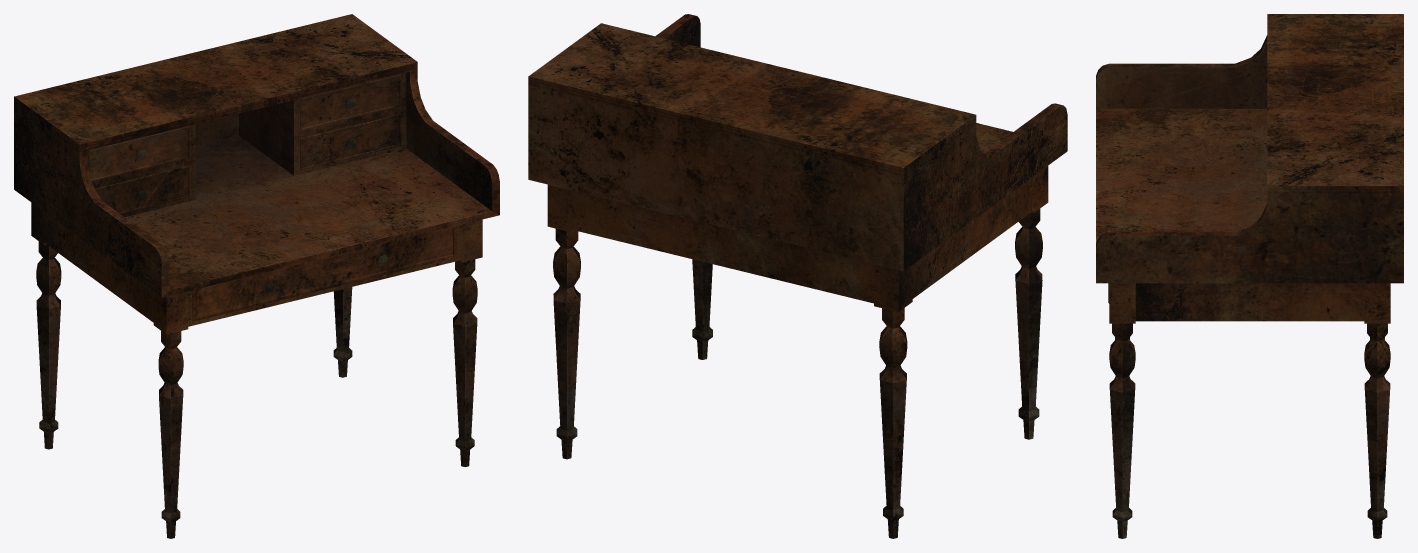
Rendered from writing_desk_dirt.FBX.
3 renders of one model, left to right at view 1: azimuth 30°, elevation 25°; view 2: azimuth 150°, elevation 25°; view 3: azimuth 270°, elevation 25°, orthographic. The views are drawn at different scales.
Visible parts, largest first — view 1: writing_desk_dirt; view 2: writing_desk_dirt; view 3: writing_desk_dirt.
Part boxes in pixels (bbox=[...]): writing_desk_dirt: bbox=[14, 14, 499, 538]; writing_desk_dirt: bbox=[528, 14, 1067, 538]; writing_desk_dirt: bbox=[1096, 14, 1403, 538].
Bounding box in the file's own units: 0.9005 × 0.8834 × 0.681.
